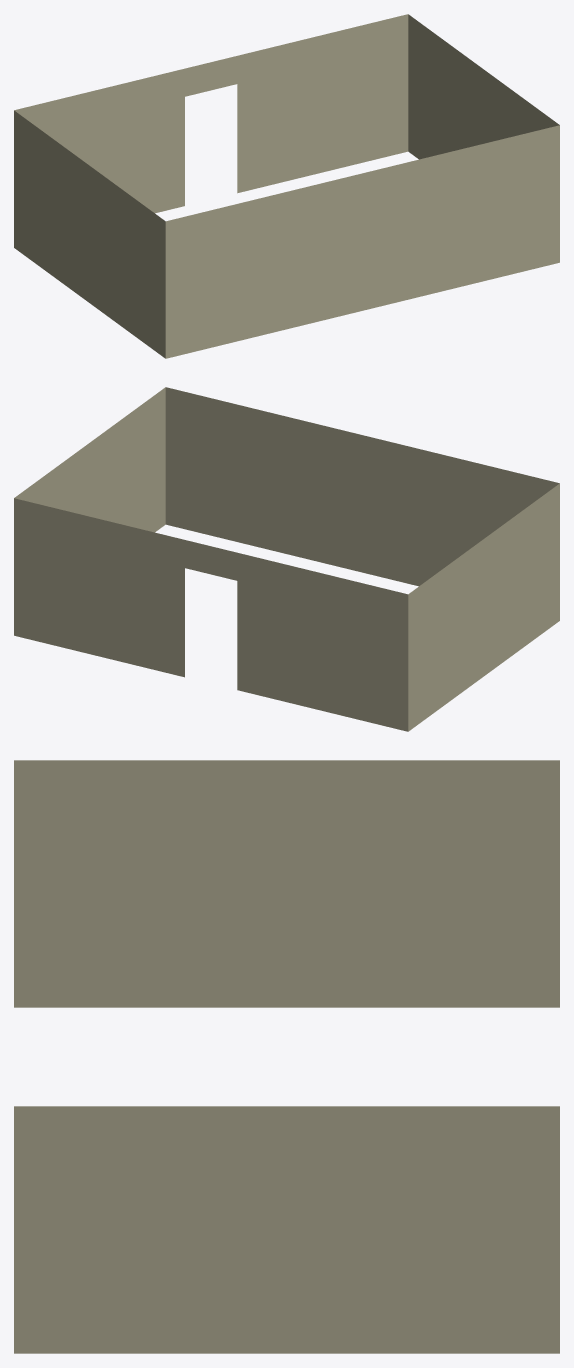
The model's file is Homeworld_Interior_Md_Room_B_Filling_01_Vo.fbx.
3 renders of one model, top to bottom at view 1: azimuth 30°, elevation 25°; view 2: azimuth 150°, elevation 25°; view 3: azimuth 270°, elevation 25°, orthographic. The views are drawn at different scales.
Visible parts, largest first — view 1: Homeworld_Interior_Md_Room_B_Filling_01_Vo; view 2: Homeworld_Interior_Md_Room_B_Filling_01_Vo; view 3: Homeworld_Interior_Md_Room_B_Filling_01_Vo.
Boxes of the visible parts, x1,y1,x2,y2 form: Homeworld_Interior_Md_Room_B_Filling_01_Vo: (14,14,559,358); Homeworld_Interior_Md_Room_B_Filling_01_Vo: (14,387,559,731); Homeworld_Interior_Md_Room_B_Filling_01_Vo: (14,760,559,1353).
Bounding box in the file's own units: 15 × 5 × 10.
